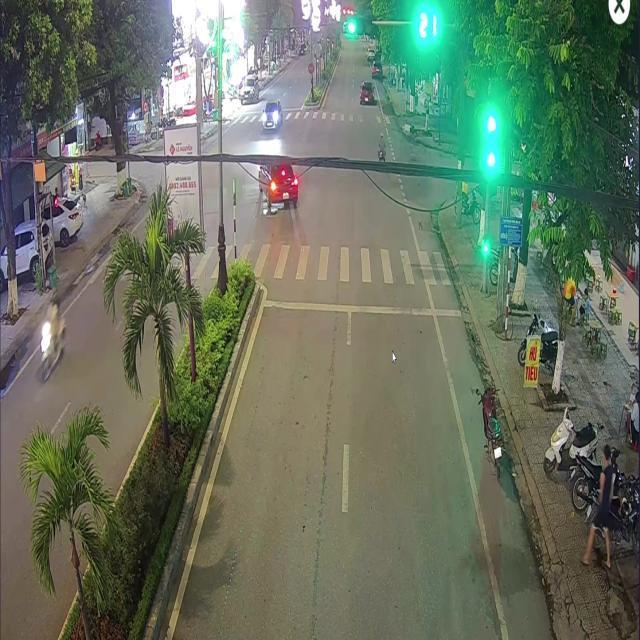car: (257, 165, 298, 206), (359, 80, 374, 103)
green_light: (346, 15, 373, 36), (486, 135, 495, 168), (483, 236, 487, 254)
motobike: (479, 386, 501, 476)
stop_line: (263, 299, 460, 315)
